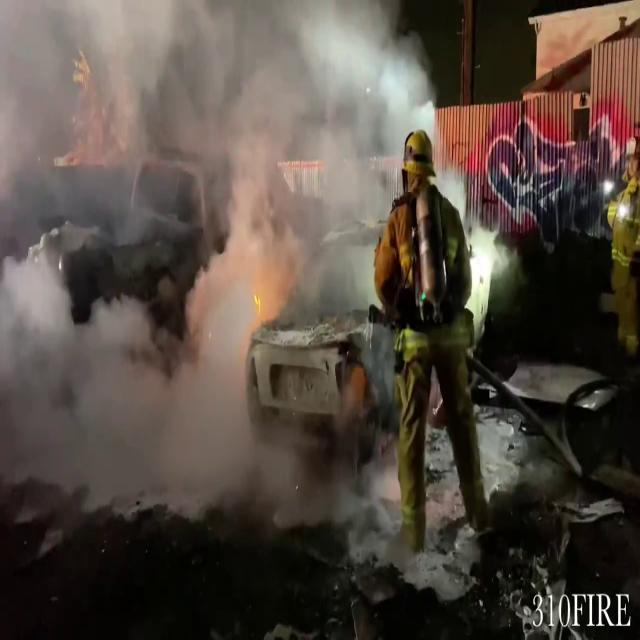Smoke: (0, 0, 359, 548)
